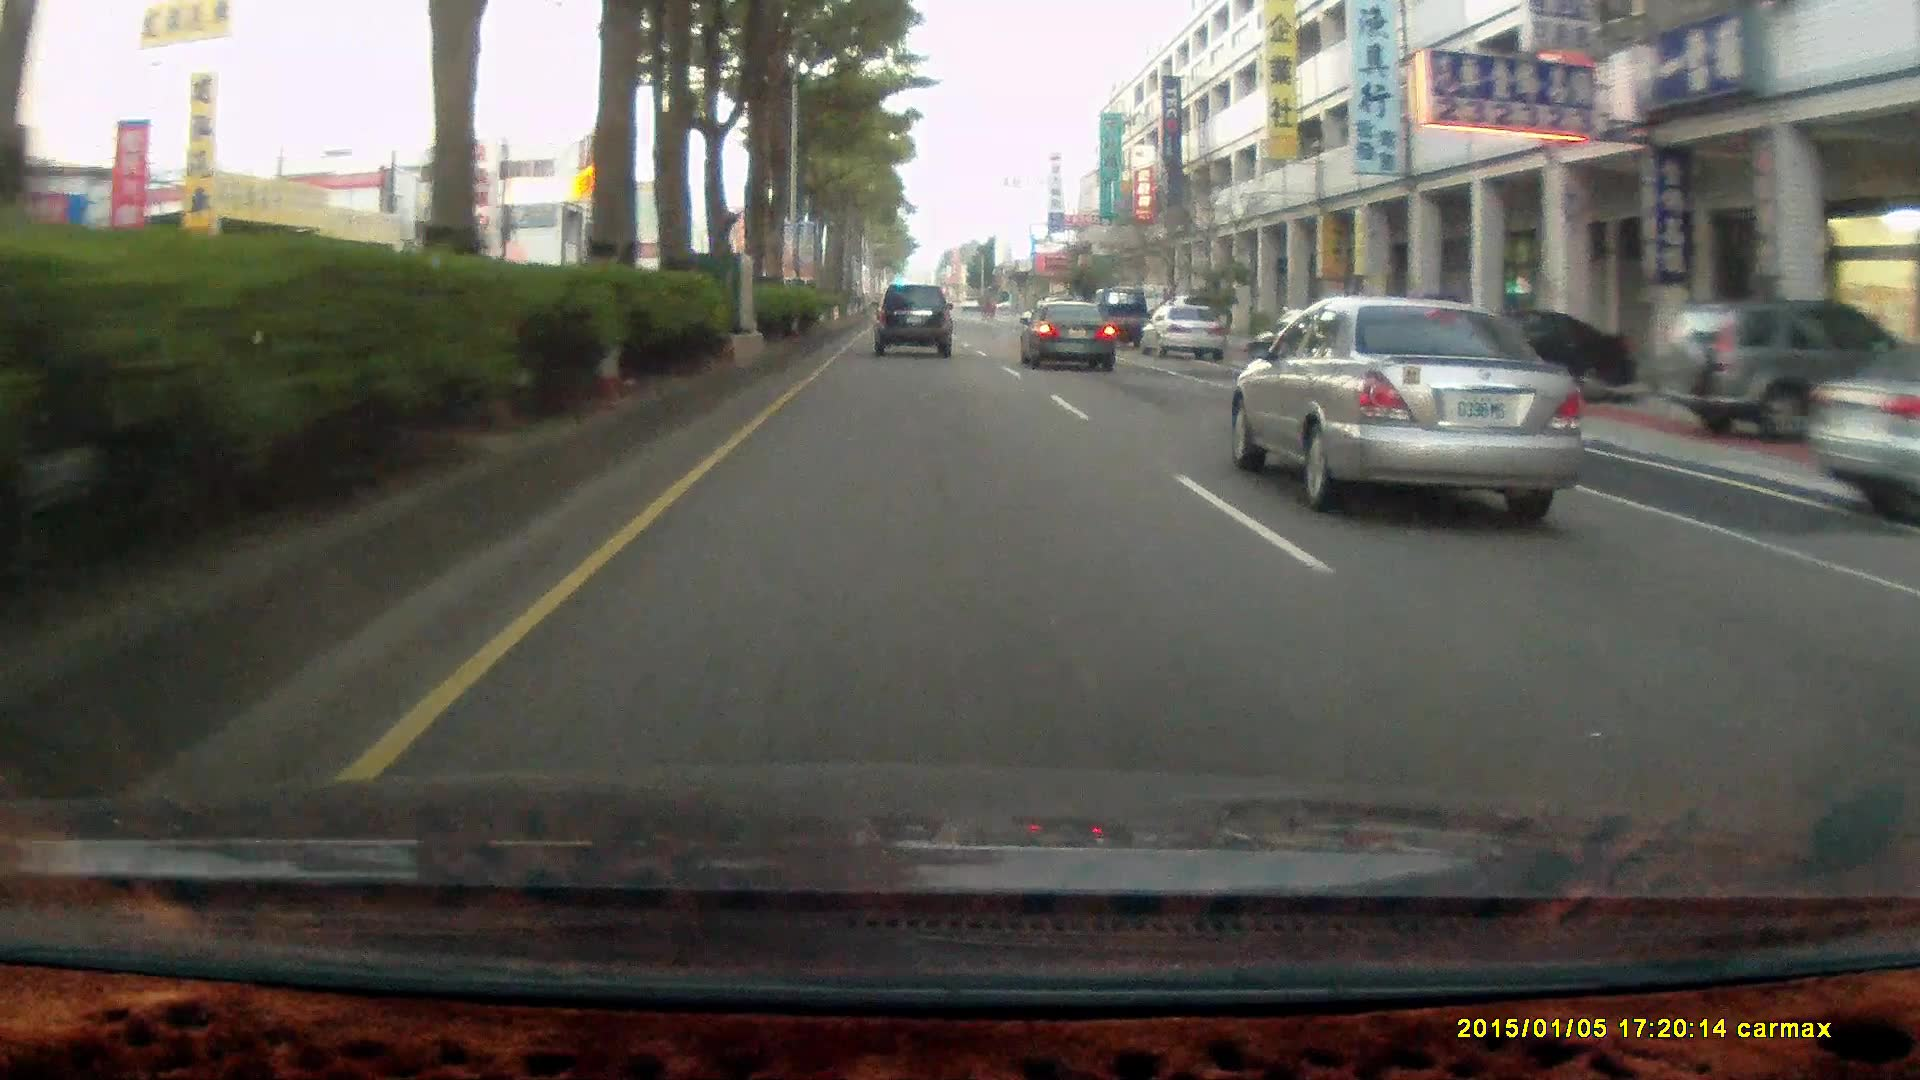vehicle: (1226, 294, 1596, 522), (1662, 299, 1905, 447), (1662, 299, 1899, 448), (1793, 331, 1920, 531), (1807, 331, 1920, 531), (1429, 313, 1639, 405), (1427, 310, 1636, 402), (1019, 301, 1120, 377), (1017, 298, 1114, 371), (873, 284, 956, 359), (872, 284, 953, 353), (1135, 305, 1226, 363), (1145, 309, 1232, 363), (1087, 284, 1149, 345)
